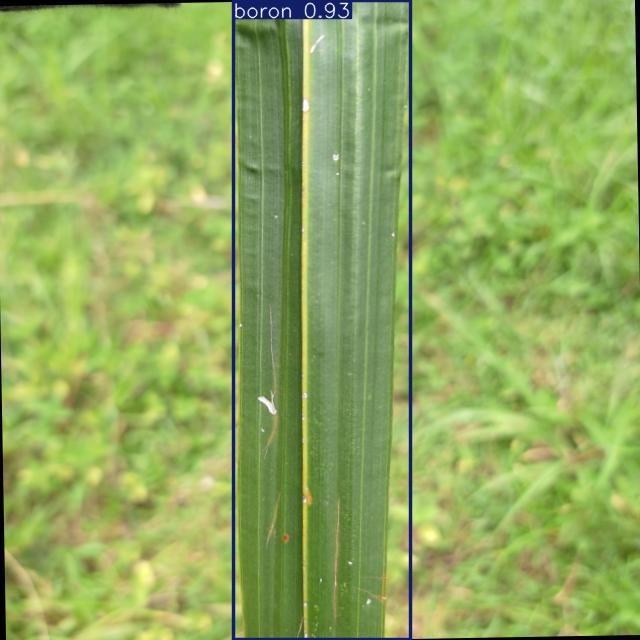nitrogen: (233, 0, 410, 640)
